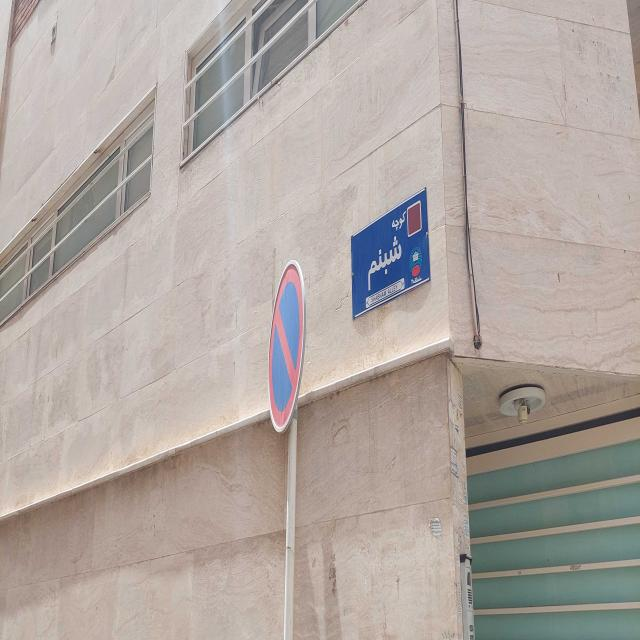forb_stopping: (267, 258, 304, 432)
